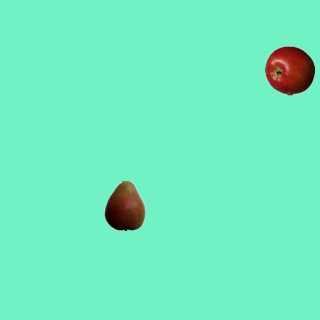Apple Braeburn: (264, 45, 314, 95)
Pear Forelle: (99, 180, 149, 230)
